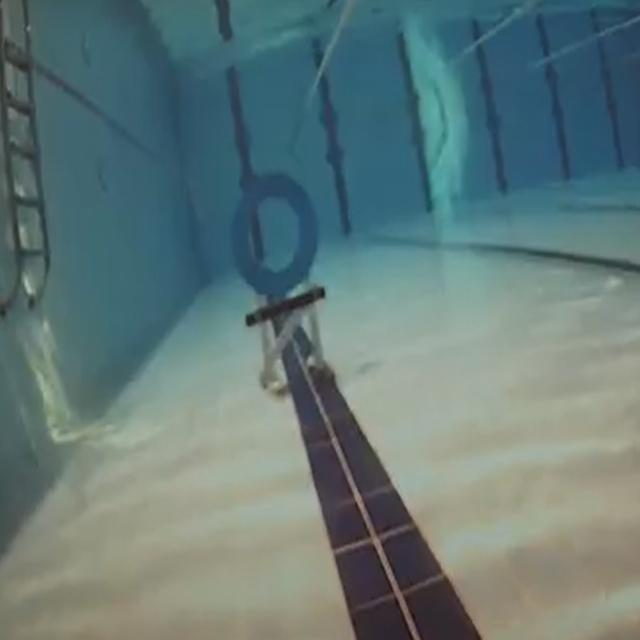Circle: (229, 170, 321, 296)
